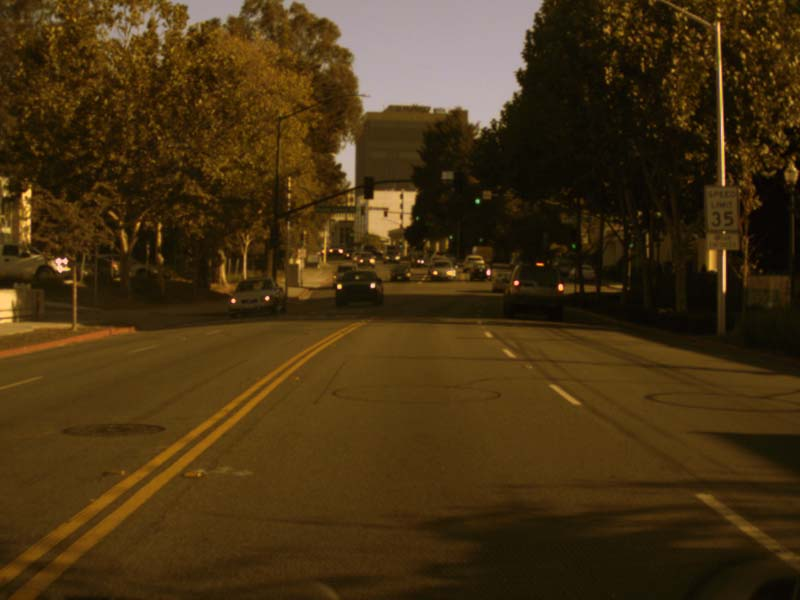Green: (473, 186, 480, 206), (627, 233, 634, 249), (570, 233, 576, 250), (447, 228, 452, 240), (414, 209, 419, 221), (478, 231, 483, 242), (350, 228, 353, 236), (365, 232, 368, 239)
